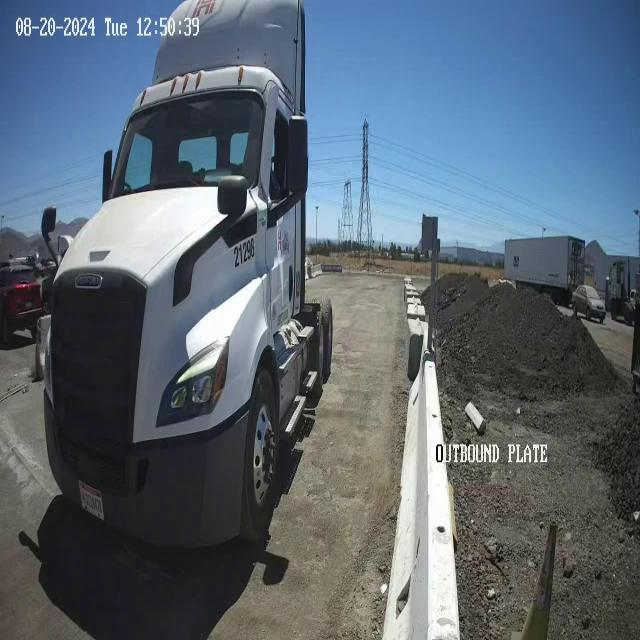TRUCK_OUT: (37, 0, 334, 552)
